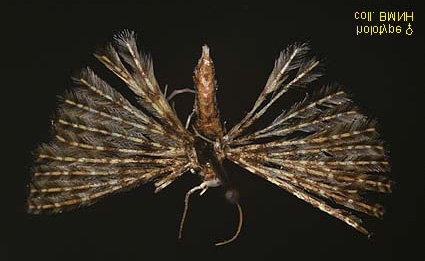Alucitidae: (24, 24, 391, 245)
moth: (26, 26, 393, 247)
